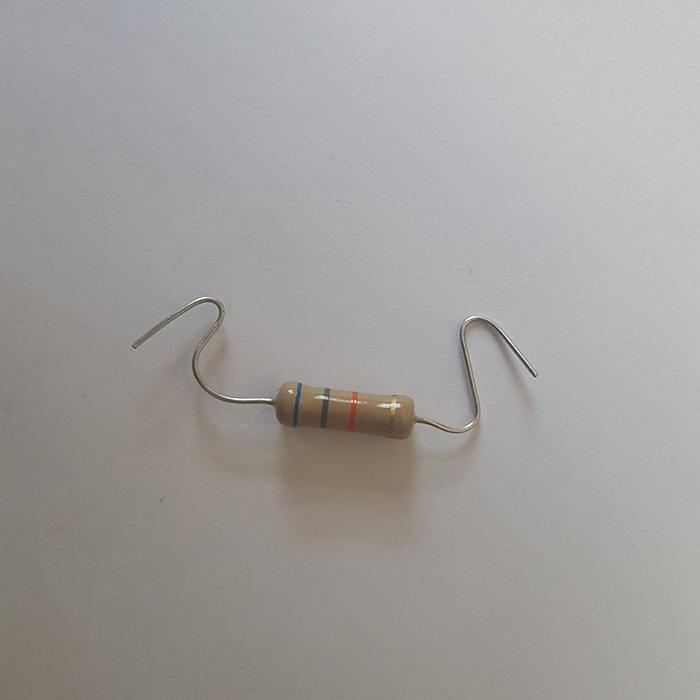resistor: (274, 380, 417, 440)
